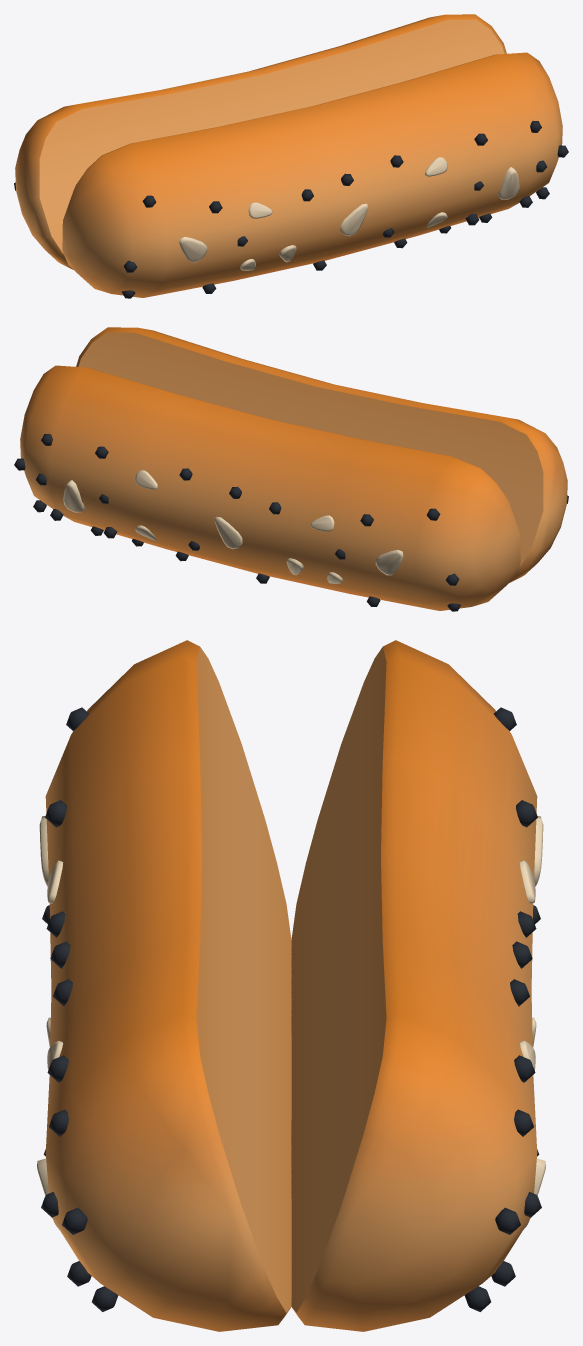
The model's file is HotDog_bun_with_seeds.001.fbx.
The picture shows the model from 3 angles, top to bottom: view 1: azimuth 30°, elevation 25°; view 2: azimuth 150°, elevation 25°; view 3: azimuth 270°, elevation 25°; orthographic projection. The views are drawn at different scales.
Visible parts, largest first — view 1: HotDog_bun_with_seeds.001; view 2: HotDog_bun_with_seeds.001; view 3: HotDog_bun_with_seeds.001.
Part boxes in pixels (bbox=[...]): HotDog_bun_with_seeds.001: bbox=[14, 14, 568, 298]; HotDog_bun_with_seeds.001: bbox=[14, 327, 568, 611]; HotDog_bun_with_seeds.001: bbox=[37, 640, 545, 1331].
Bounding box in the file's own units: 153 × 69.97 × 49.72.
